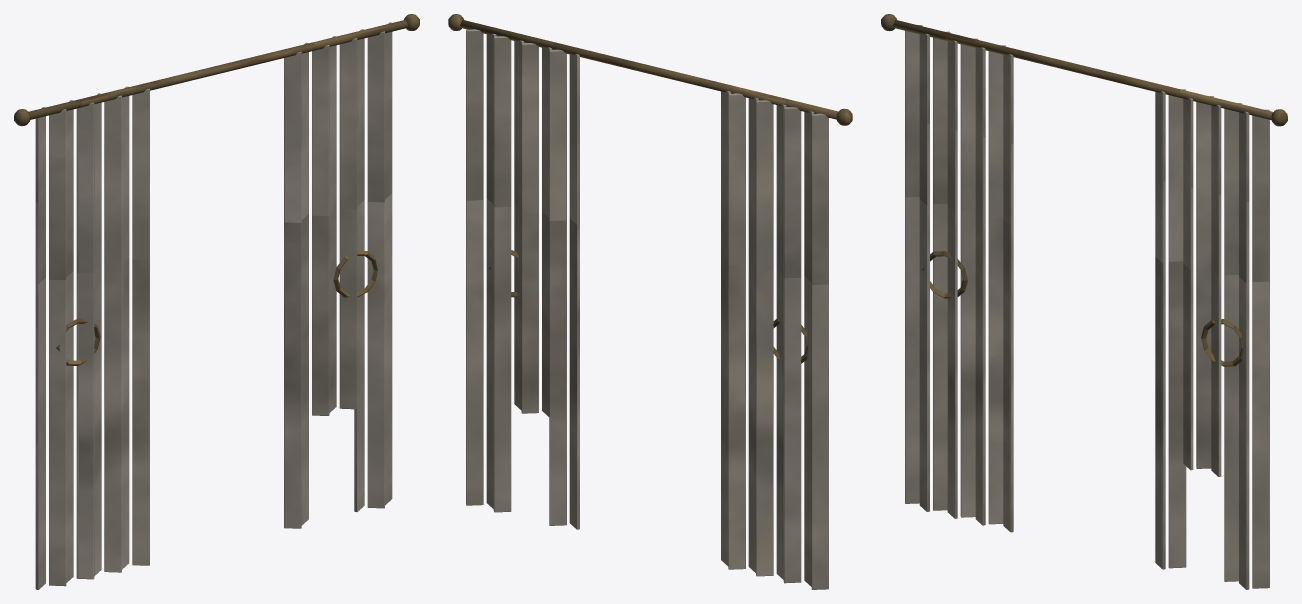
File: L08_window_curtains_v2.glb
The picture shows the model from 3 angles, left to right: view 1: azimuth 30°, elevation 25°; view 2: azimuth 150°, elevation 25°; view 3: azimuth 330°, elevation 25°; orthographic projection.
Parts seen in each view (by area): view 1: L08_window_curtains_v2; view 2: L08_window_curtains_v2; view 3: L08_window_curtains_v2.
Part boxes in pixels (x1,y1,x2,y2): L08_window_curtains_v2: (14,14,419,589); L08_window_curtains_v2: (448,14,852,589); L08_window_curtains_v2: (881,14,1287,589).
Bounding box in the file's own units: 1.74 × 2 × 0.0763.
2 materials, 2 textured.
